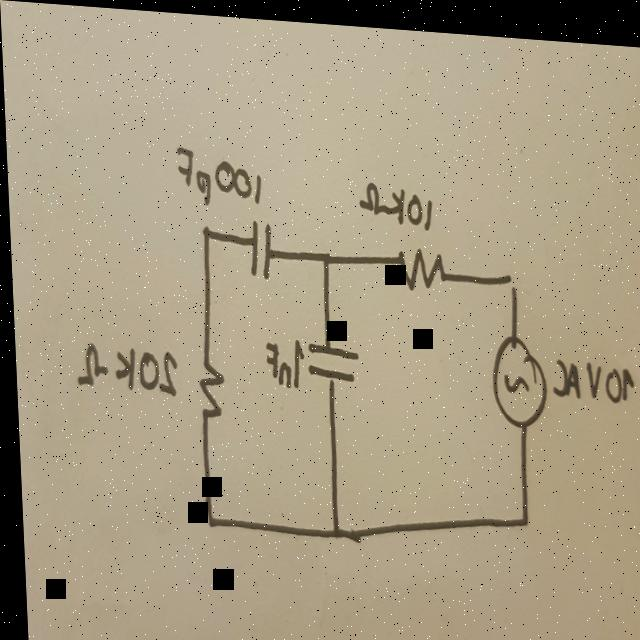capacitor: (300, 329, 360, 388), (244, 213, 274, 281)
junction: (314, 242, 335, 271), (199, 500, 218, 531), (514, 495, 531, 527), (502, 260, 519, 289), (325, 514, 342, 542), (197, 218, 214, 245)
resistor: (390, 232, 448, 293), (192, 347, 225, 422)
source: (484, 329, 547, 425)
text: (72, 340, 177, 400), (169, 138, 262, 205), (548, 345, 637, 399), (355, 171, 434, 230), (260, 331, 306, 390)
